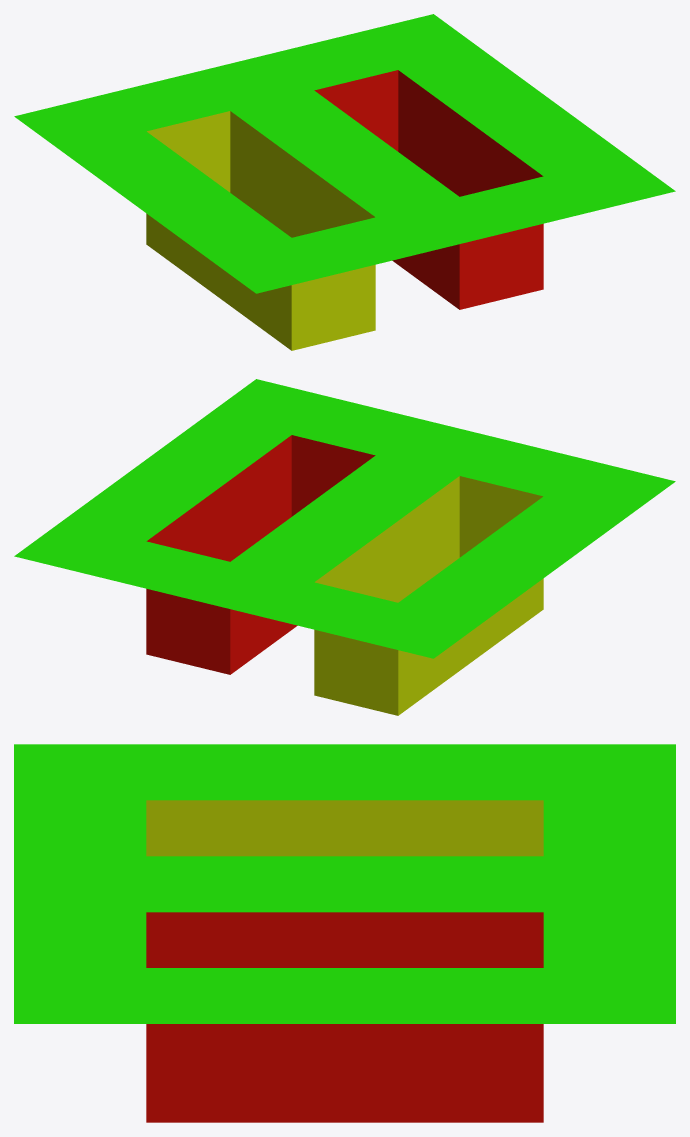
The model's file is custom_wall.glb.
3 renders of one model, top to bottom at view 1: azimuth 30°, elevation 25°; view 2: azimuth 150°, elevation 25°; view 3: azimuth 270°, elevation 25°, orthographic. The views are drawn at different scales.
Visible parts, largest first — view 1: Grid; view 2: Grid; view 3: Grid.
Boxes of the visible parts, x1,y1,x2,y2 form: Grid: (14, 14, 675, 350); Grid: (14, 379, 675, 715); Grid: (14, 744, 675, 1122).
Bounding box in the file's own units: 1 × 0.2576 × 1.
